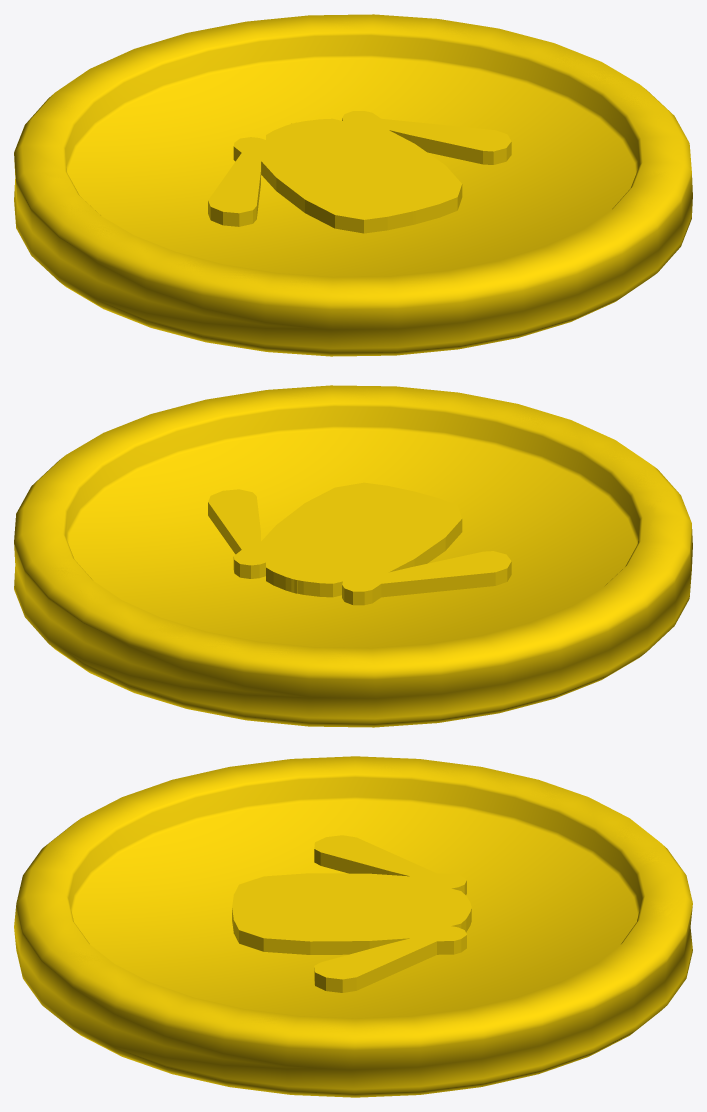
File: Coin collectible.fbx
3 renders of one model, top to bottom at view 1: azimuth 30°, elevation 25°; view 2: azimuth 150°, elevation 25°; view 3: azimuth 270°, elevation 25°, orthographic.
Parts seen in each view (by area): view 1: Circle; view 2: Circle; view 3: Circle.
Part boxes in pixels (x1=…): Circle: x1=14, y1=14, x2=692, y2=356; Circle: x1=14, y1=385, x2=692, y2=727; Circle: x1=14, y1=756, x2=692, y2=1097.
Size of the model in its own units: 200 by 20.35 by 201.
